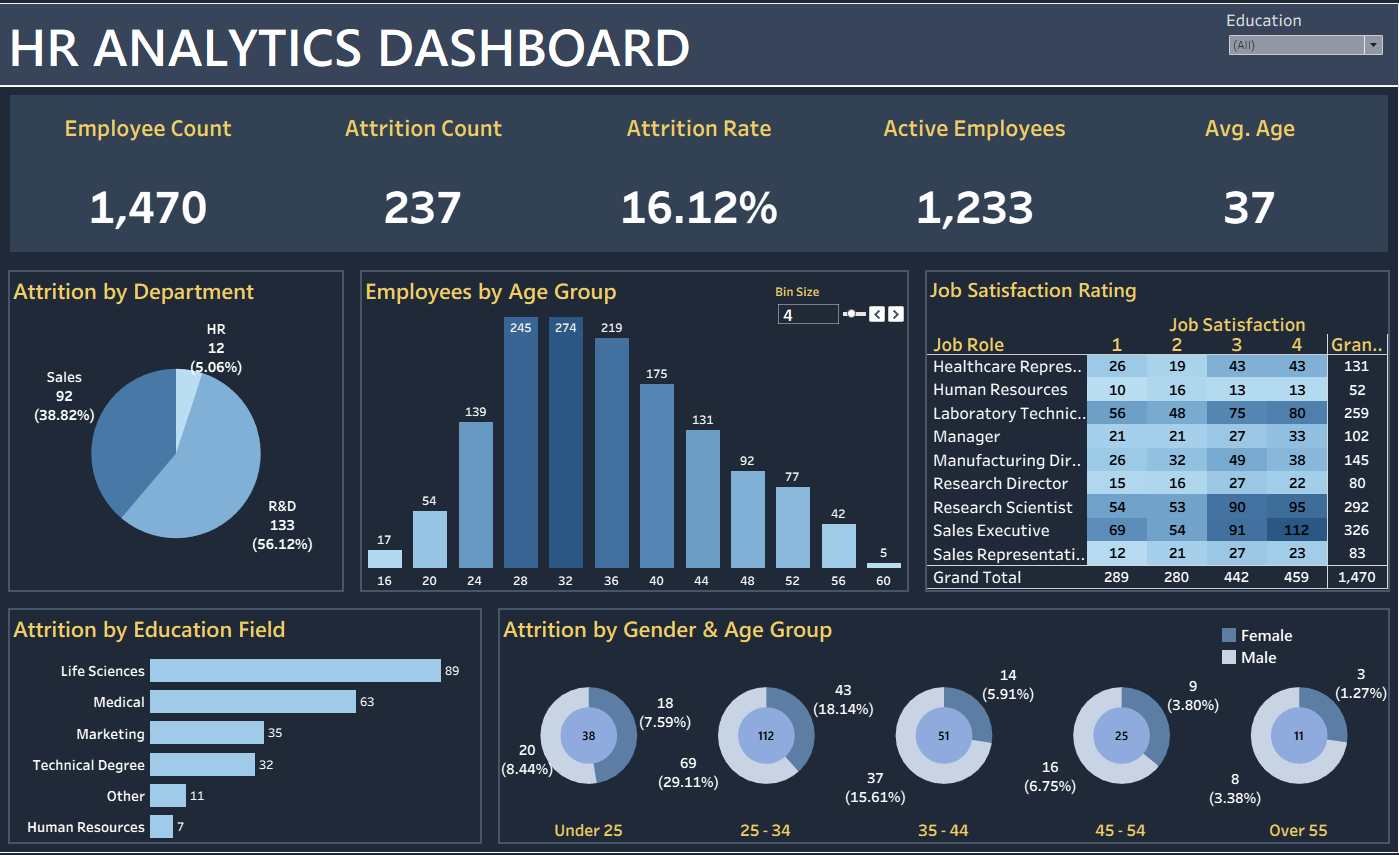

What the dashboard file says about the page in this screenshot:
{"tool":"tableau","page":{"name":"HR ANALYSIS DASHBOARD","canvas":[1400,850],"ordinal":0},"visuals":[{"type":"text","box":[0,0,1220,83.2]},{"type":"filter","title":"KPI","param":"[federated.12aapvg17huzbf1cmbvcq0mizo6n].[none:Education:nk]","box":[1220,0,180,83.2]},{"type":"worksheet","title":"KPI","mark":"Automatic","box":[1,84.2,1398,175]},{"type":"worksheet","title":"Attrition by Department","mark":"Pie","box":[1,259.2,352,338]},{"type":"worksheet","title":"Employees by Age Group","mark":"Bar","rows":["Employee Count"],"cols":["Age (bin)"],"box":[353,259.2,565,338]},{"type":"worksheet","title":"Job Satisfaction Rating","mark":"Square","rows":["Job Role"],"cols":["Job Satisfaction"],"box":[918,259.2,481,338]},{"type":"parameter","param":"[Parameters].[Parameter 0504431989653508]","box":[776,280,132,43]},{"type":"worksheet","title":"Attrition by Education Field","mark":"Automatic","rows":["Education Field"],"cols":["Calculation_0504431293816832"],"box":[1,597.2,490,251.8]},{"type":"worksheet","title":"Attrition by Gender & Age Group","mark":"Pie","rows":["Calculation_0504432953143303","Calculation_0504432953143303"],"cols":["CF_age band"],"box":[491,597.2,908,251.8]},{"type":"legend","title":"Attrition by Gender & Age Group","param":"[federated.12aapvg17huzbf1cmbvcq0mizo6n].[none:Gender:nk]","box":[1219,621,122,47]}]}

Visuals, with their boxes in screenshot pixels (x1, y1, x2, y2), scaled from the page's 1400x850 canvas onto the 1399x855 screenshot:
text: 0 0 1219 84
"KPI" filter: 1219 0 1398 84
"KPI" worksheet: 1 85 1398 261
"Attrition by Department" worksheet (Pie marks): 1 261 353 601
"Employees by Age Group" worksheet (Bar marks): 353 261 917 601
"Job Satisfaction Rating" worksheet (Square marks): 917 261 1398 601
parameter: 775 282 907 325
"Attrition by Education Field" worksheet: 1 601 491 854
"Attrition by Gender & Age Group" worksheet (Pie marks): 491 601 1398 854
"Attrition by Gender & Age Group" legend: 1218 625 1340 672
